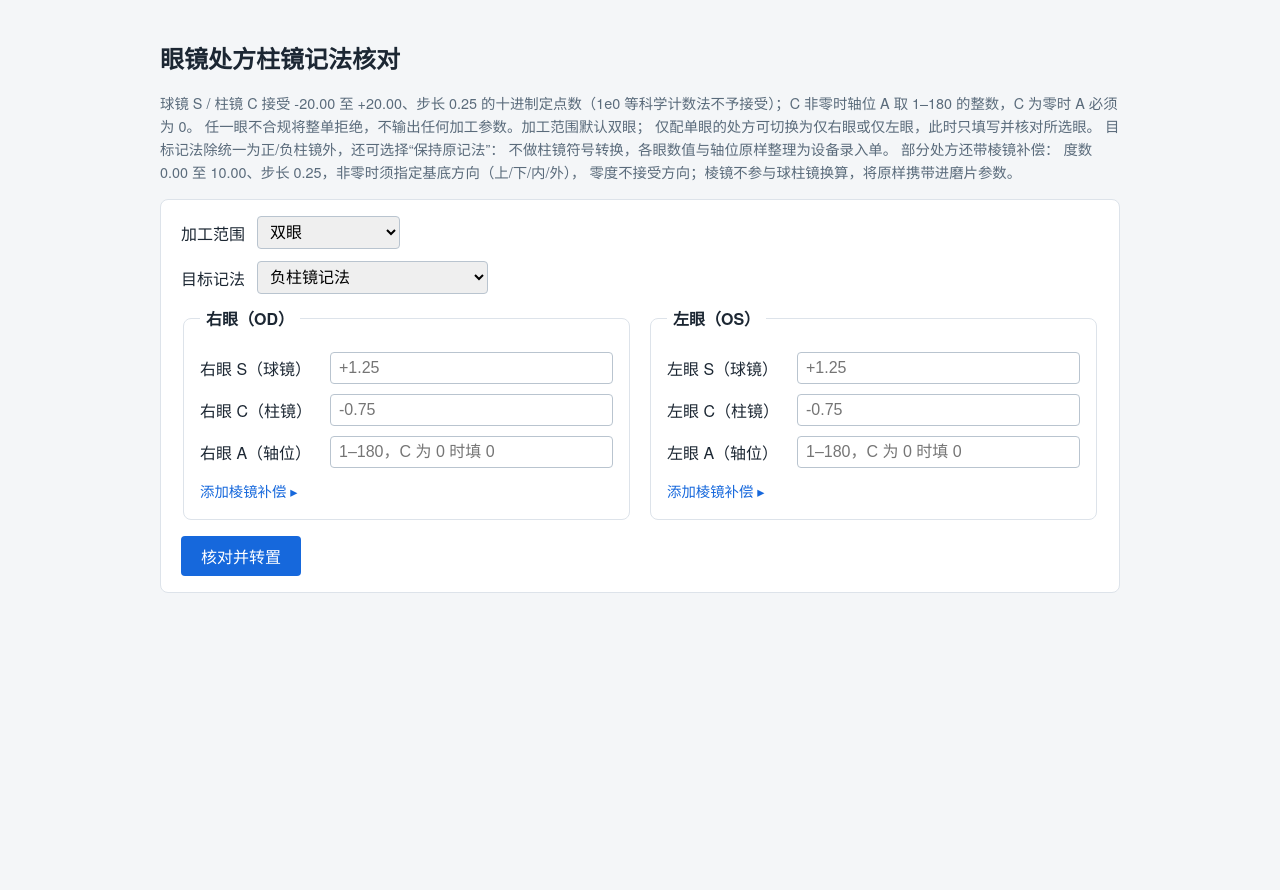
Test: 处方核对页 › 提交后真实展示后端返回的原值、转置值与等价校核
In the field labelled "右眼 S（球镜）": (472, 368) 330,352 -> 613,384, type "1.00"
In the field labelled "右眼 C（柱镜）": (472, 410) 330,394 -> 613,426, type "2.00"
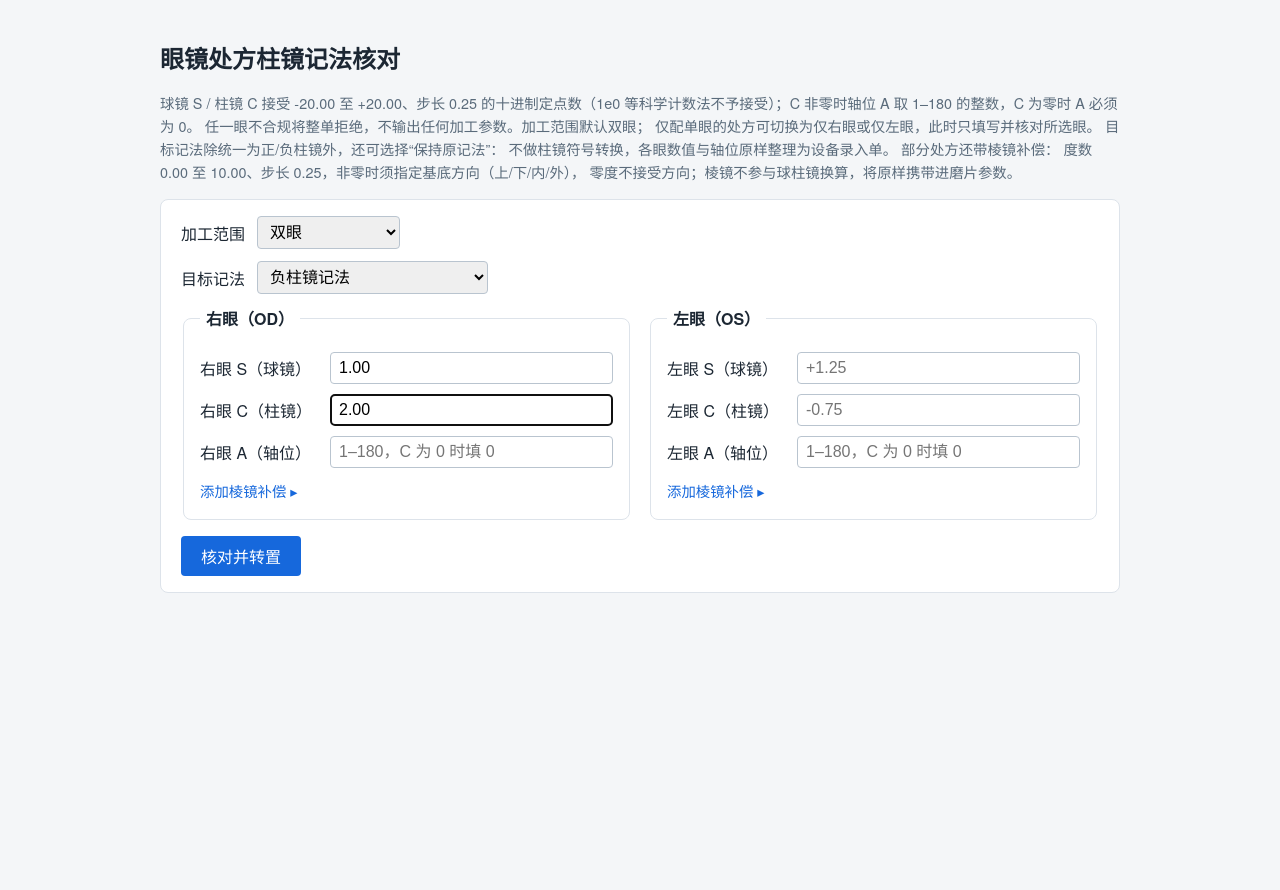
In the field labelled "右眼 A（轴位）": (472, 452) 330,436 -> 613,468, type "30"
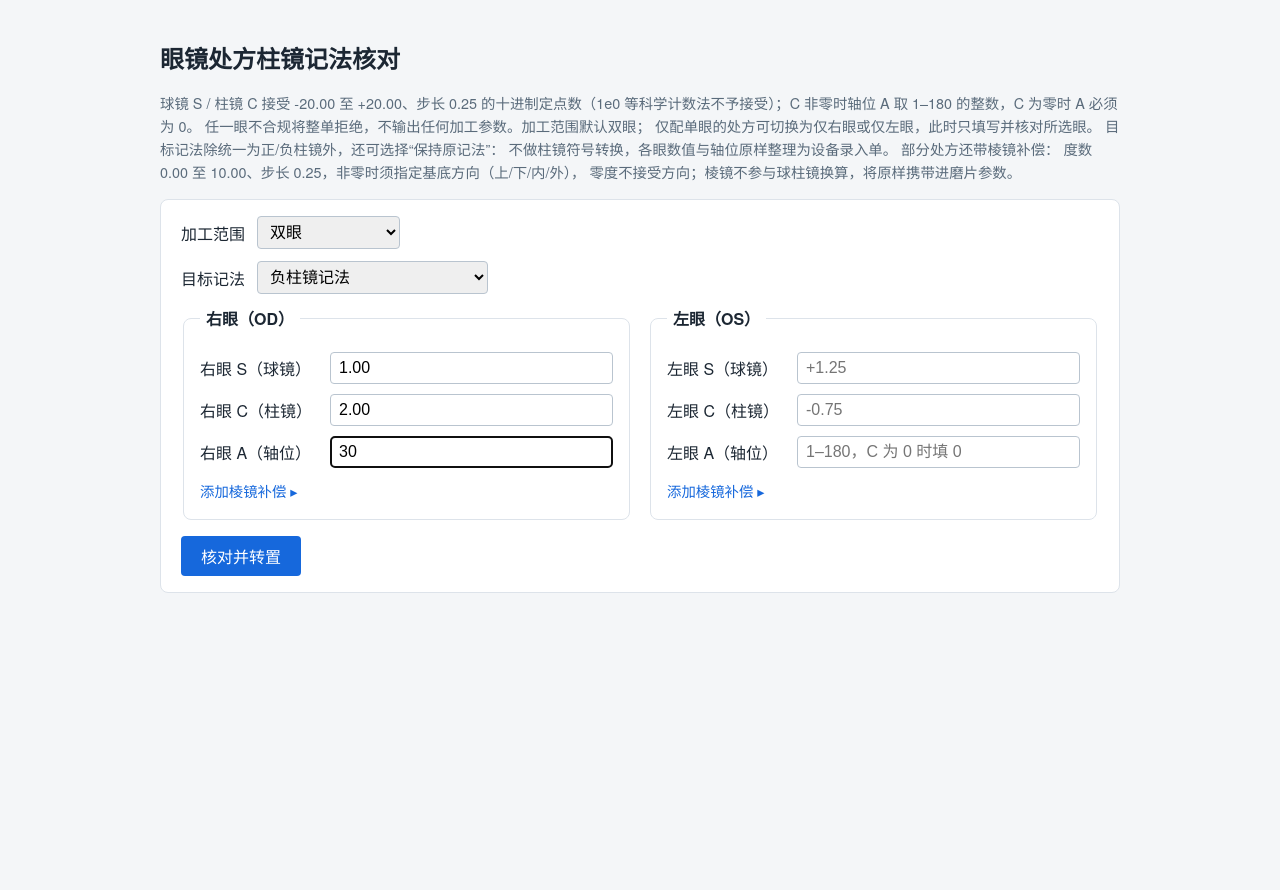
In the field labelled "左眼 S（球镜）": (938, 368) 797,352 -> 1080,384, type "-1.25"
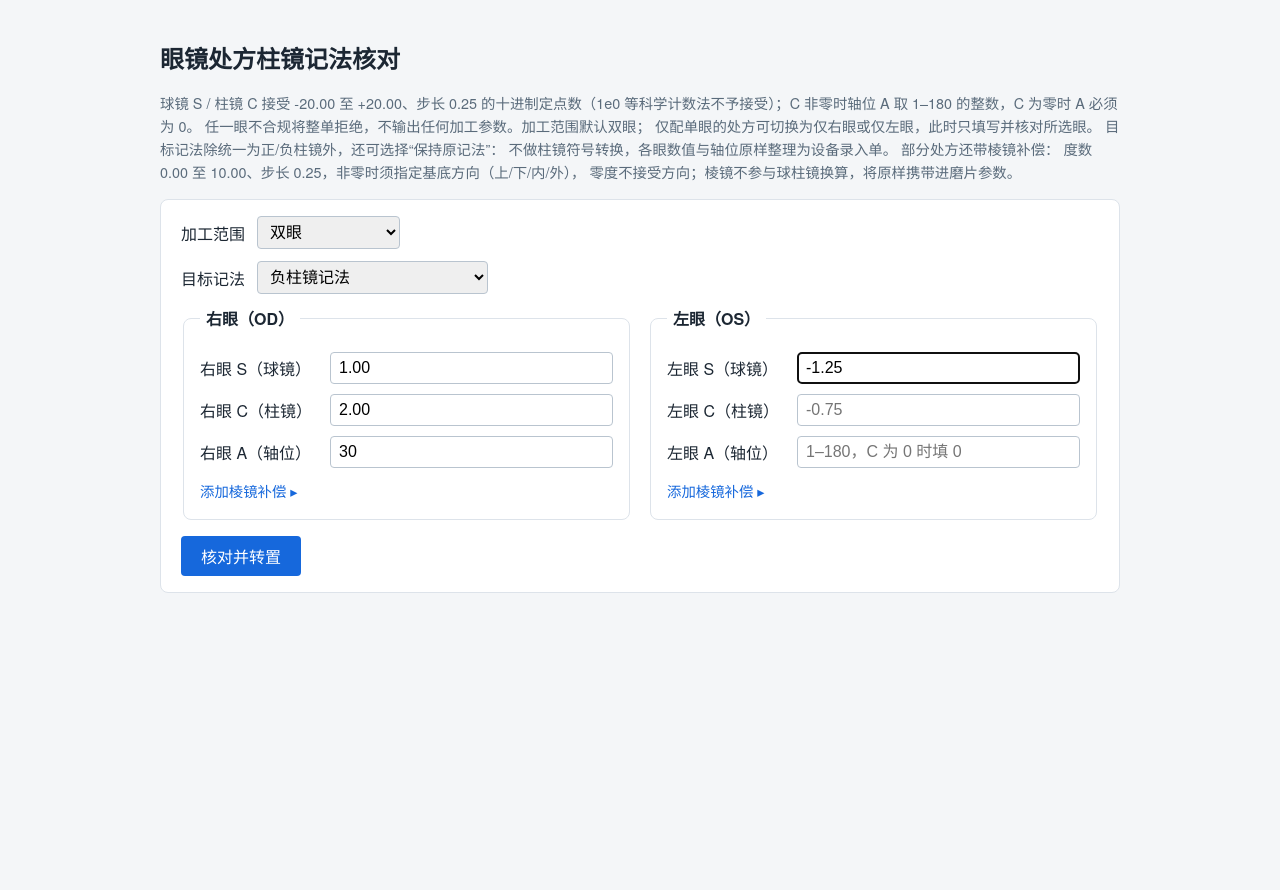
In the field labelled "左眼 C（柱镜）": (938, 410) 797,394 -> 1080,426, type "-0.50"
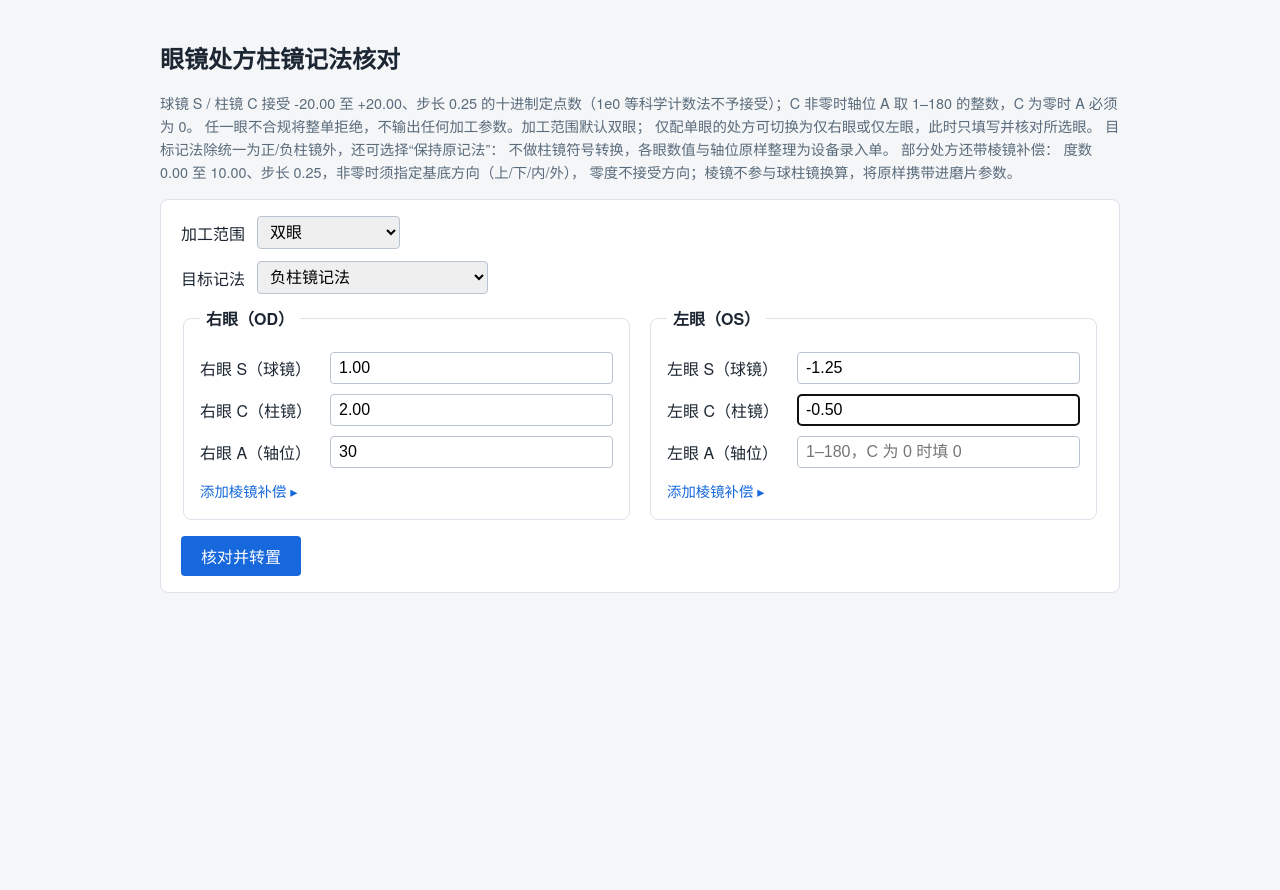
In the field labelled "左眼 A（轴位）": (938, 452) 797,436 -> 1080,468, type "85"
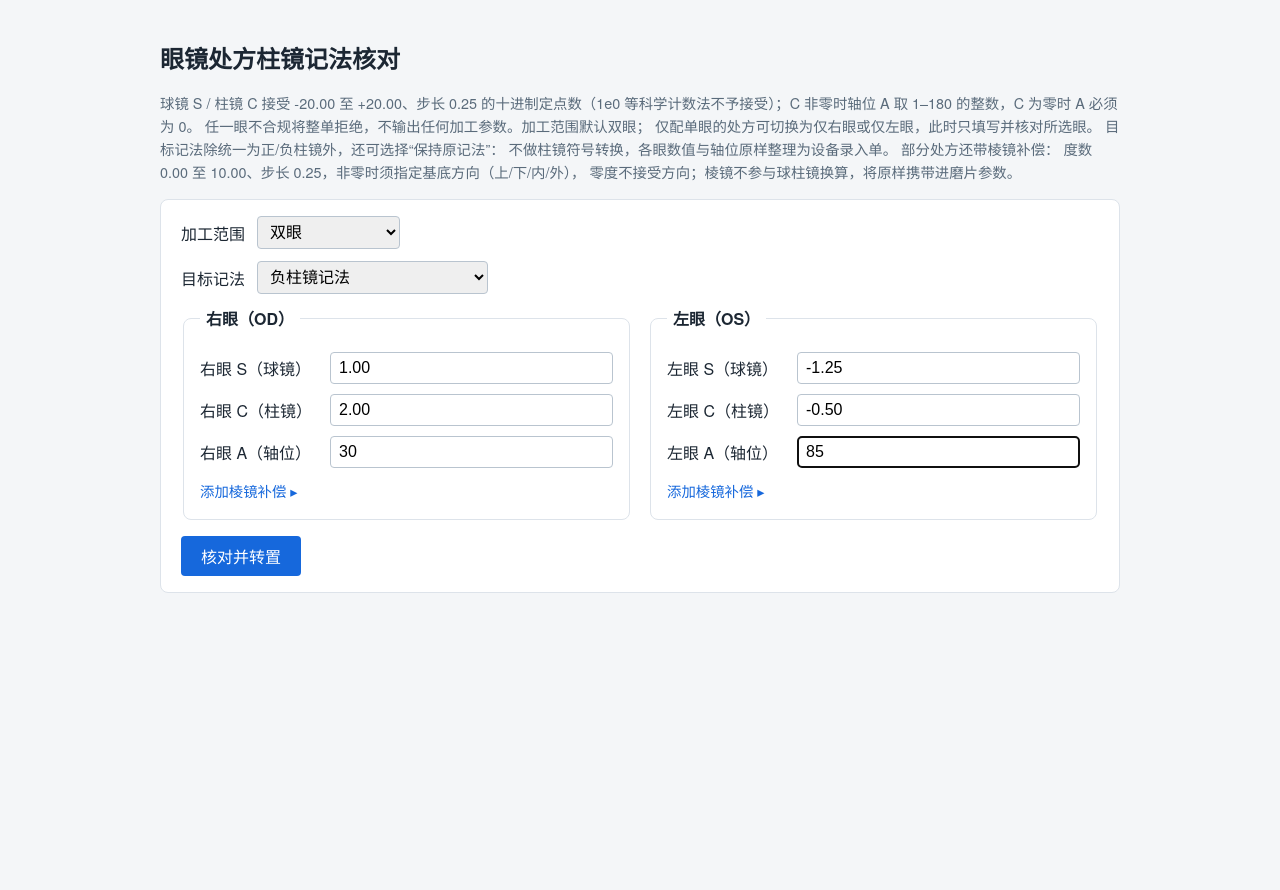
Click the button "核对并转置": (241, 556) 181,536 -> 301,576
(page scrolled)
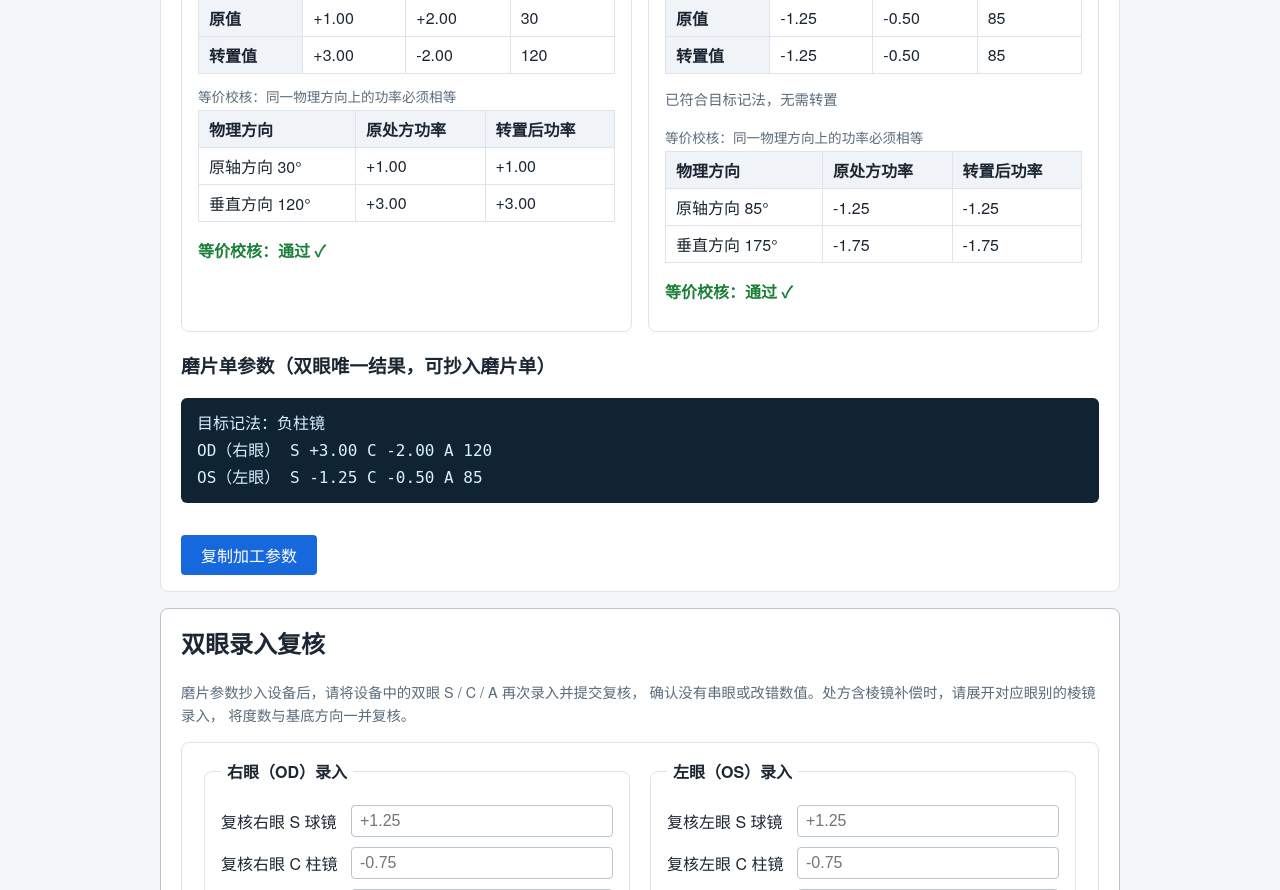
Check: the text "+3.00" below "+2.00" is shown, box 313,43 -> 354,66
Check: the text "-2.00" is shown, box 406,36 -> 510,73
Check: the text "120" is shown, box 510,36 -> 614,73
